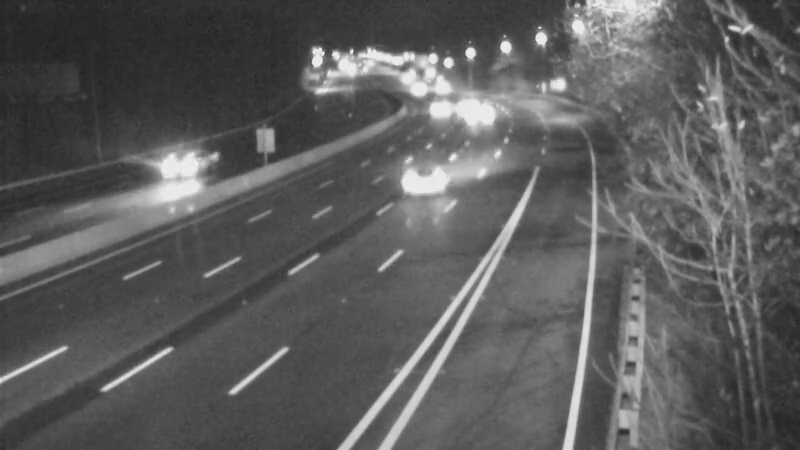vehicle: (388, 141, 468, 221), (145, 130, 225, 210), (411, 62, 461, 112), (389, 64, 439, 114), (441, 84, 491, 134), (415, 84, 465, 134), (451, 93, 501, 143)
